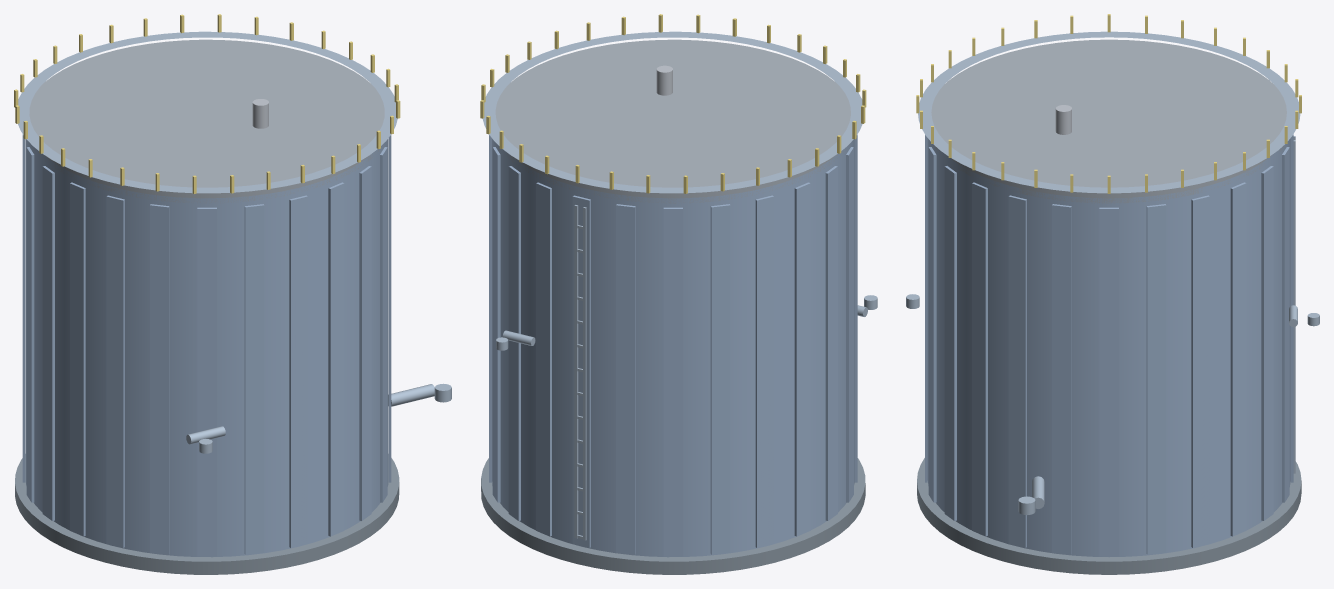
Rendered from tank_a.glb.
The picture shows the model from 3 angles, left to right: view 1: azimuth 30°, elevation 25°; view 2: azimuth 150°, elevation 25°; view 3: azimuth 270°, elevation 25°; orthographic projection.
Visible parts, largest first — view 1: shell, seal, foundation, panel_7, panel_9, panel_8, panel_10, panel_6, walkway, panel_5, panel_11, panel_4 (+6 smaller); view 2: shell, seal, foundation, panel_15, panel_16, panel_17, panel_14, walkway, panel_13, panel_19, panel_12, panel_18 (+7 smaller); view 3: shell, seal, foundation, panel_23, panel_0, panel_1, walkway, panel_22, panel_2, panel_21, panel_3, panel_4 (+7 smaller).
Part boxes in pixels (box(x1,y1,x2,y2)): shell: box(26, 139, 388, 557); seal: box(29, 39, 384, 203); foundation: box(15, 454, 399, 574); panel_7: box(244, 204, 264, 554); panel_9: box(150, 204, 169, 554); panel_8: box(197, 207, 216, 556); panel_10: box(106, 195, 124, 547); panel_6: box(289, 195, 307, 547); walkway: box(18, 31, 397, 193); panel_5: box(328, 182, 344, 536); panel_11: box(70, 182, 85, 536); panel_4: box(359, 166, 371, 520); shell: box(492, 138, 854, 557); seal: box(495, 39, 850, 203); foundation: box(481, 458, 865, 574); panel_15: box(710, 204, 730, 554); panel_16: box(663, 207, 682, 556); panel_17: box(616, 204, 635, 554); panel_14: box(755, 195, 773, 547); walkway: box(482, 31, 862, 193); panel_13: box(794, 182, 810, 536); panel_19: box(536, 182, 551, 536); panel_12: box(825, 166, 837, 520); panel_18: box(572, 195, 590, 547); shell: box(927, 138, 1290, 557); seal: box(931, 39, 1286, 203); foundation: box(917, 458, 1301, 574); panel_23: box(1146, 204, 1166, 554); panel_0: box(1099, 207, 1118, 556); panel_1: box(1052, 204, 1071, 554); walkway: box(918, 31, 1300, 193); panel_22: box(1191, 195, 1209, 547); panel_2: box(1008, 195, 1026, 547); panel_21: box(1230, 182, 1246, 536); panel_3: box(972, 182, 987, 536); panel_4: box(944, 166, 956, 520).
Size of the model in its own units: 5.53 by 5.72 by 5.36.
